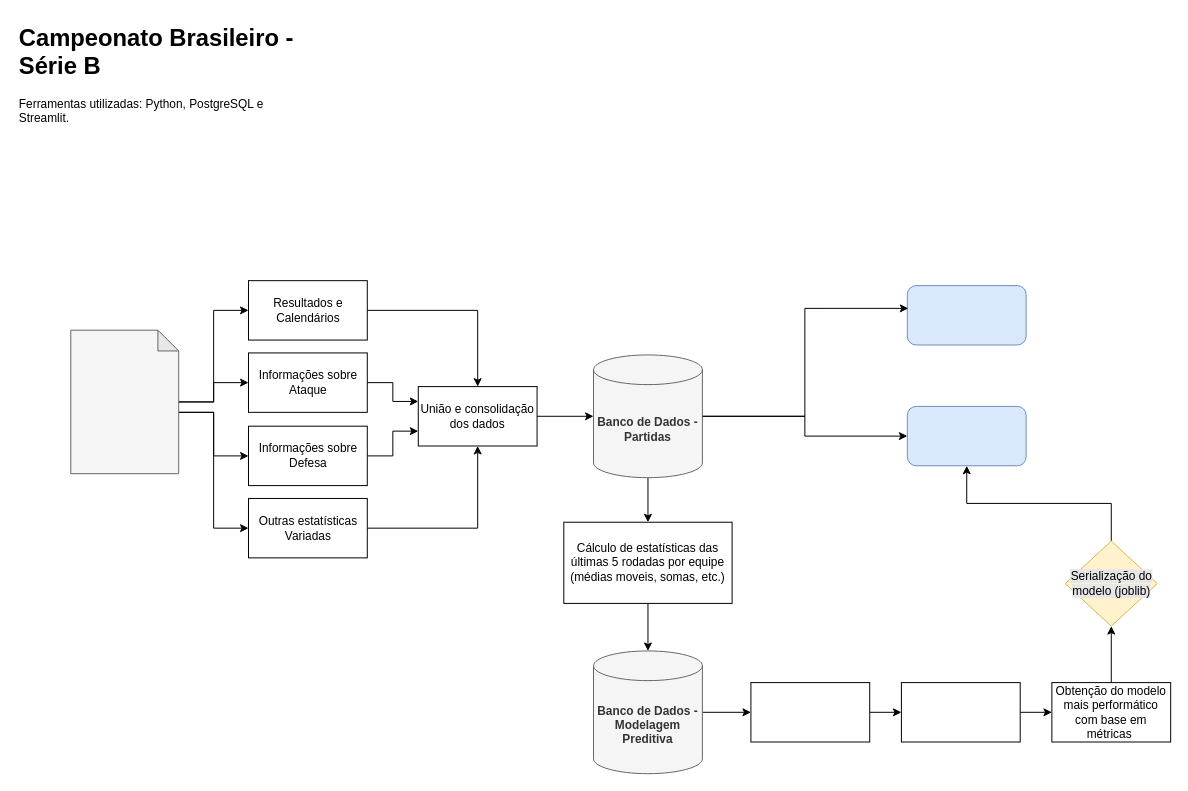
Some shapes in this 1188 by 791 pixel diagram are drawn without their labels. Each missing label, with the box of its shape:
Dashboard: (906, 285, 1026, 345)
Deploy do modelo em Produção: (906, 405, 1026, 466)
Modelagem Preditiva - Machine Learning (treino e teste): (750, 682, 870, 742)
Otimização de Hiperparâmetros: (900, 682, 1020, 742)
Resultados das Partidas (FBREF): (70, 329, 179, 474)
